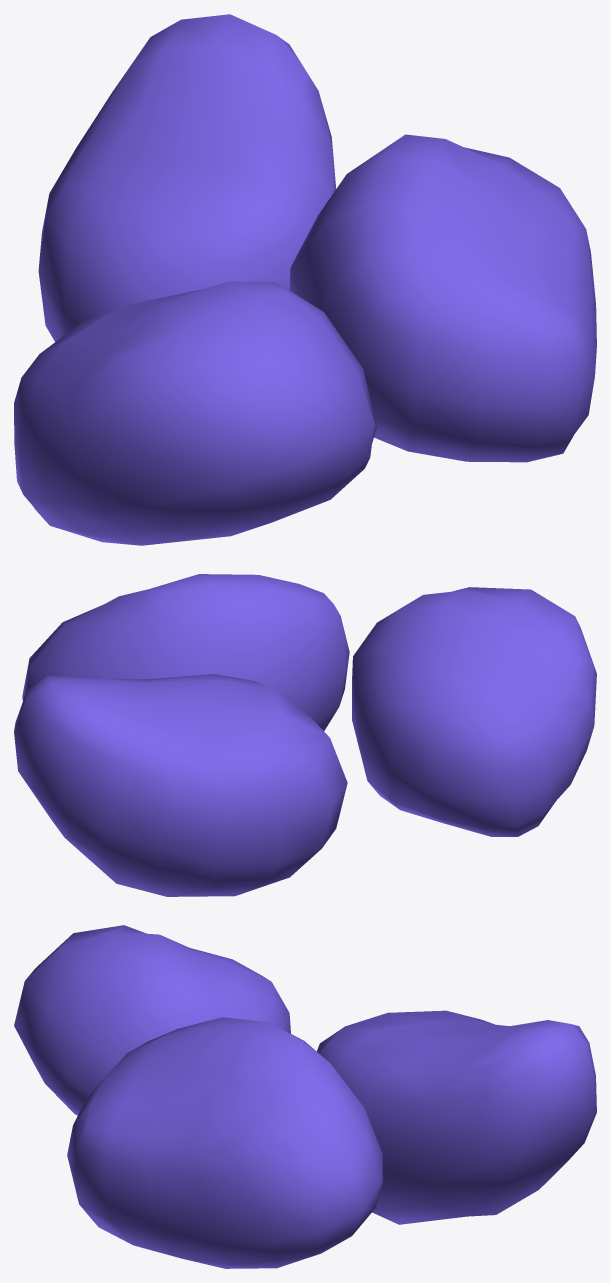
File: Food_Potatoes.fbx
The picture shows the model from 3 angles, top to bottom: view 1: azimuth 30°, elevation 25°; view 2: azimuth 150°, elevation 25°; view 3: azimuth 270°, elevation 25°; orthographic projection. The views are drawn at different scales.
Parts seen in each view (by area): view 1: Taters; view 2: Taters; view 3: Taters.
Boxes of the visible parts, x1,y1,x2,y2 form: Taters: (14, 14, 596, 545); Taters: (14, 574, 596, 896); Taters: (14, 925, 596, 1268).
Bounding box in the file's own units: 10.75 × 4.88 × 11.42.
